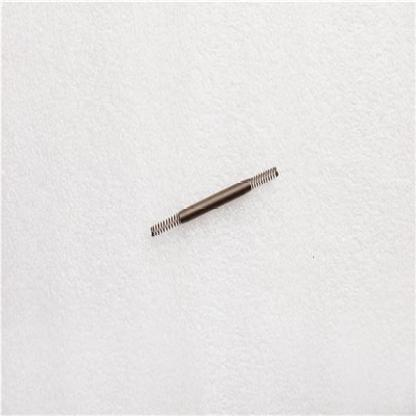FOD: (145, 163, 280, 239)
